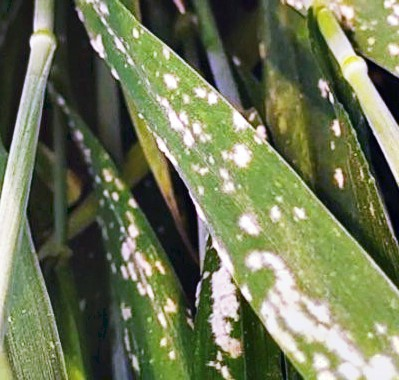Powdery Mildew: (86, 72, 328, 350)
